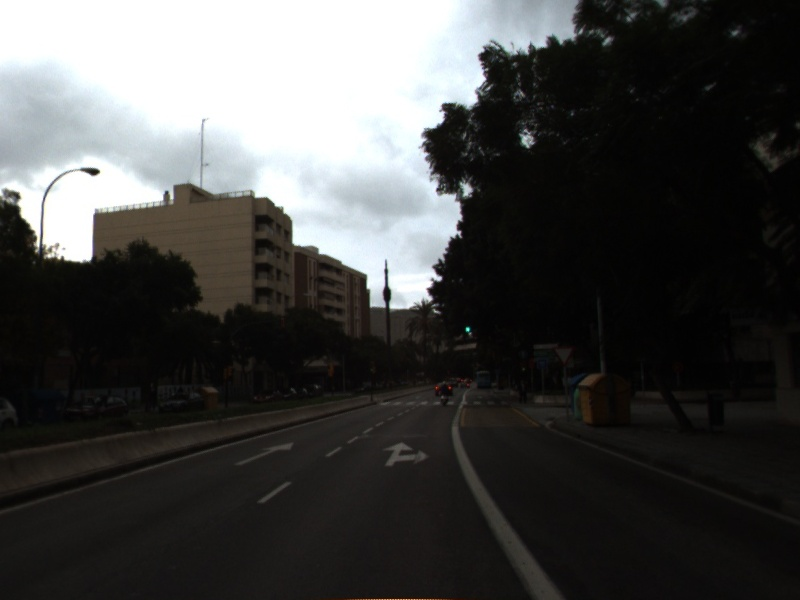STRAIGHT: (232, 440, 296, 468)
STRAIGHT_RIGHT: (380, 439, 432, 468)
